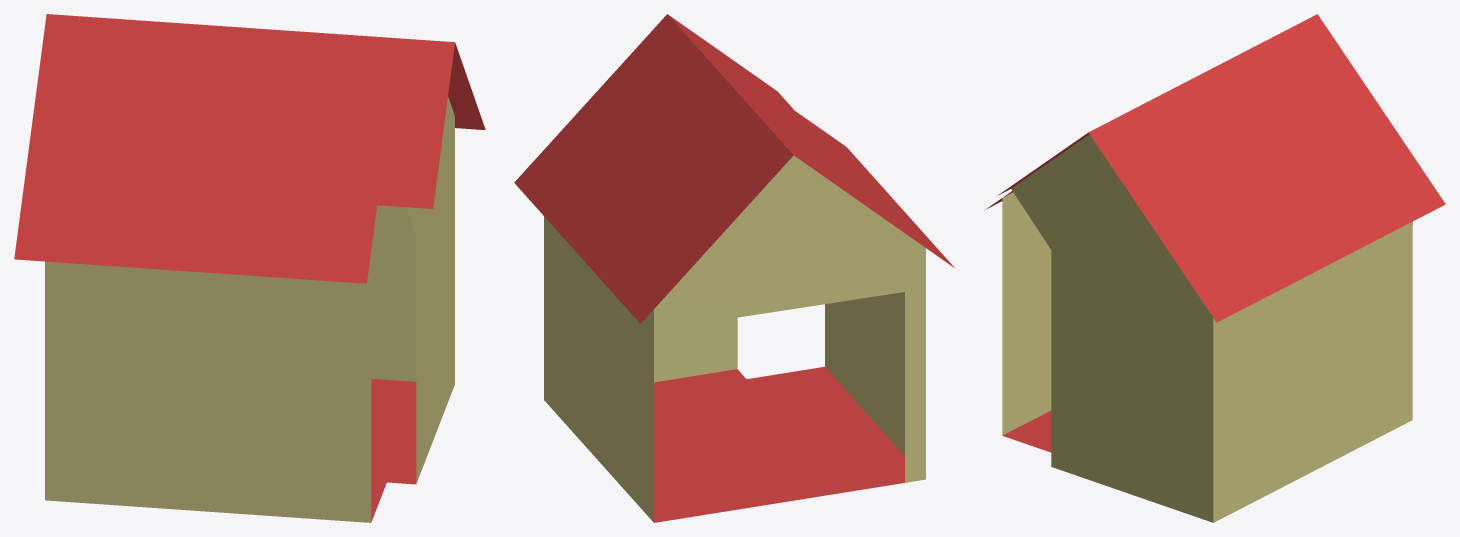
3 renders of one model, left to right at view 1: azimuth 30°, elevation 25°; view 2: azimuth 150°, elevation 25°; view 3: azimuth 270°, elevation 25°, orthographic. The views are drawn at different scales.
Bounding box in the file's own units: 15.84 × 14.75 × 12.69.
